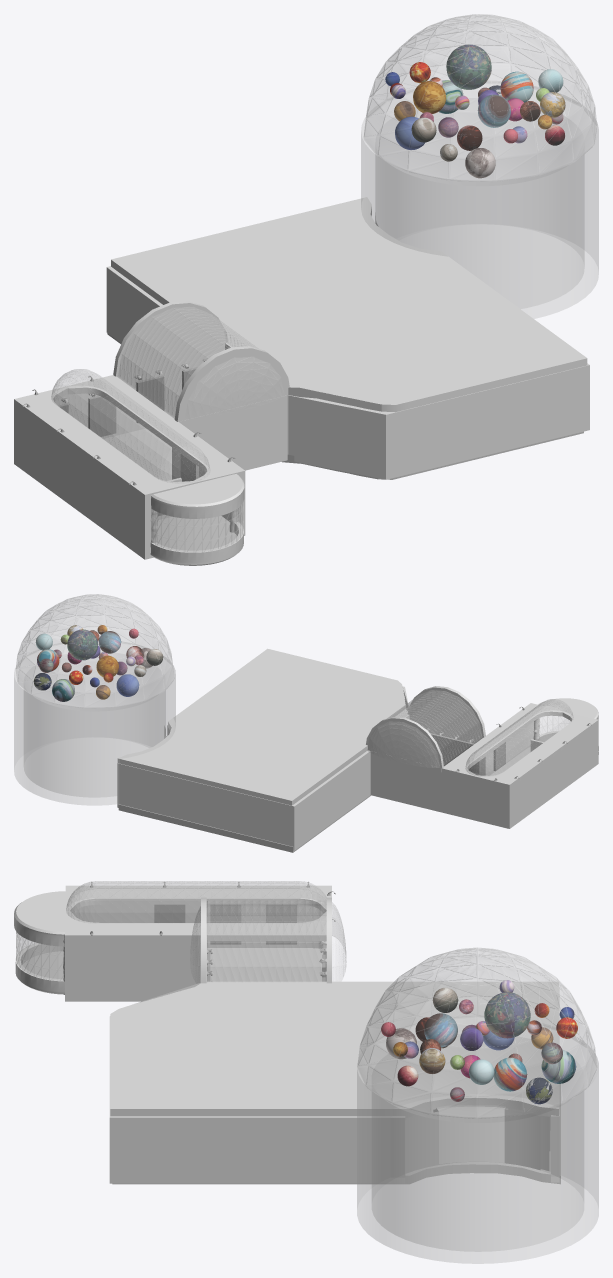
File: Sanat_Galerisi.fbx
3 renders of one model, top to bottom at view 1: azimuth 30°, elevation 25°; view 2: azimuth 150°, elevation 25°; view 3: azimuth 270°, elevation 25°, orthographic. The views are drawn at different scales.
Parts seen in each view (by area): view 1: Gallery, Floor1, Tablo, planet_1, planet_3, planet_2, planet_7, planet_16, Floor; view 2: Gallery, Floor1, Floor, Tablo, planet_1, planet_6, planet_5, planet_3, planet_2; view 3: Gallery, Floor1, Floor, Tablo, planet_1, planet_7, planet_3, planet_6, planet_13, planet_9, planet_8, planet_34.
Part boxes in pixels (left/top/right/bottom): Gallery: left=14, top=14, right=598, bottom=565; Floor1: left=111, top=197, right=587, bottom=412; Tablo: left=58, top=367, right=198, bottom=481; planet_1: left=446, top=44, right=491, bottom=89; planet_3: left=477, top=94, right=510, bottom=127; planet_2: left=413, top=81, right=446, bottom=113; planet_7: left=500, top=71, right=533, bottom=102; planet_16: left=465, top=148, right=495, bottom=178; Floor: left=107, top=333, right=583, bottom=479; Gallery: left=14, top=594, right=598, bottom=850; Floor1: left=117, top=648, right=409, bottom=805; Floor: left=118, top=795, right=371, bottom=852; Tablo: left=430, top=733, right=505, bottom=773; planet_1: left=67, top=629, right=98, bottom=660; planet_6: left=52, top=679, right=74, bottom=701; planet_5: left=116, top=674, right=139, bottom=696; planet_3: left=98, top=631, right=121, bottom=653; planet_2: left=96, top=655, right=118, bottom=677; Gallery: left=14, top=881, right=598, bottom=1263; Floor1: left=110, top=981, right=558, bottom=1117; Floor: left=112, top=1084, right=560, bottom=1184; Tablo: left=154, top=904, right=550, bottom=1150; planet_1: left=484, top=992, right=530, bottom=1038; planet_7: left=493, top=1057, right=527, bottom=1091; planet_3: left=424, top=1013, right=457, bottom=1047; planet_6: left=541, top=1049, right=576, bottom=1083; planet_13: left=526, top=1077, right=552, bottom=1104; planet_9: left=419, top=1048, right=445, bottom=1073; planet_8: left=469, top=1059, right=494, bottom=1084; planet_34: left=432, top=987, right=458, bottom=1012.
Bounding box in the file's own units: 2263 × 869 × 1749.
